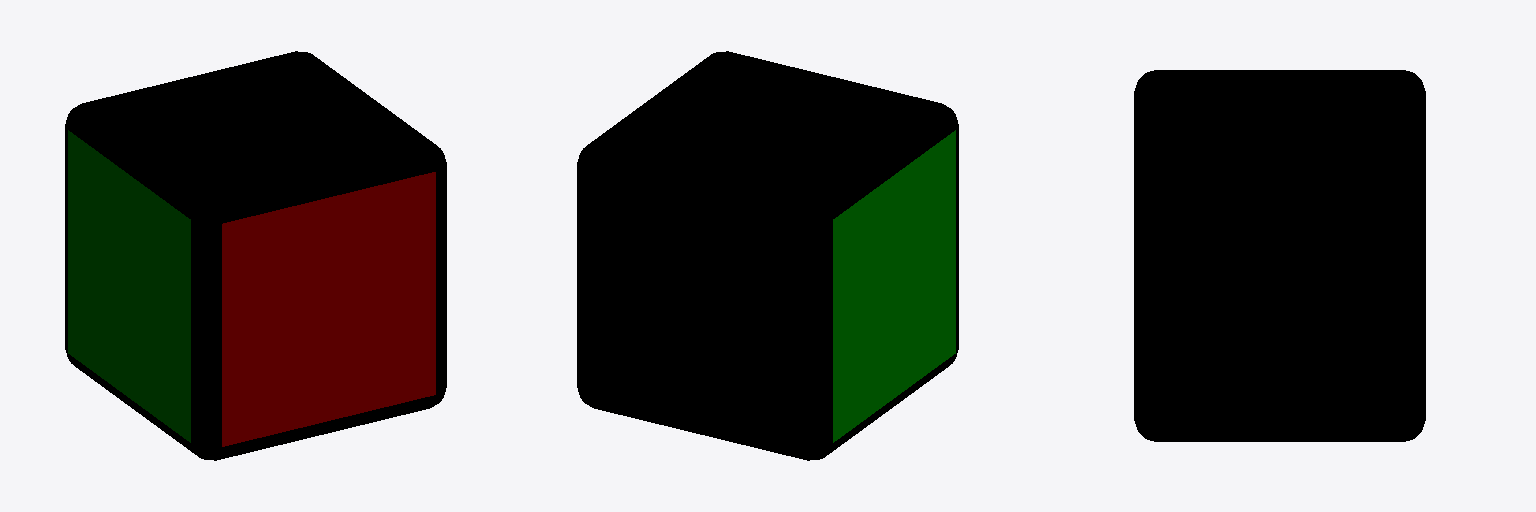
The model's file is piece_101.obj.
3 views of the same model, side by side, from view 1: azimuth 30°, elevation 25°; view 2: azimuth 150°, elevation 25°; view 3: azimuth 270°, elevation 25° (orthographic).
Visible parts, largest first — view 1: Cube.016_Cube.017; view 2: Cube.016_Cube.017; view 3: Cube.016_Cube.017.
Boxes of the visible parts, <box> form: Cube.016_Cube.017: <box>65,51,446,460</box>; Cube.016_Cube.017: <box>577,51,958,460</box>; Cube.016_Cube.017: <box>1134,70,1425,441</box>.
Bounding box in the file's own units: 2 × 2 × 2.